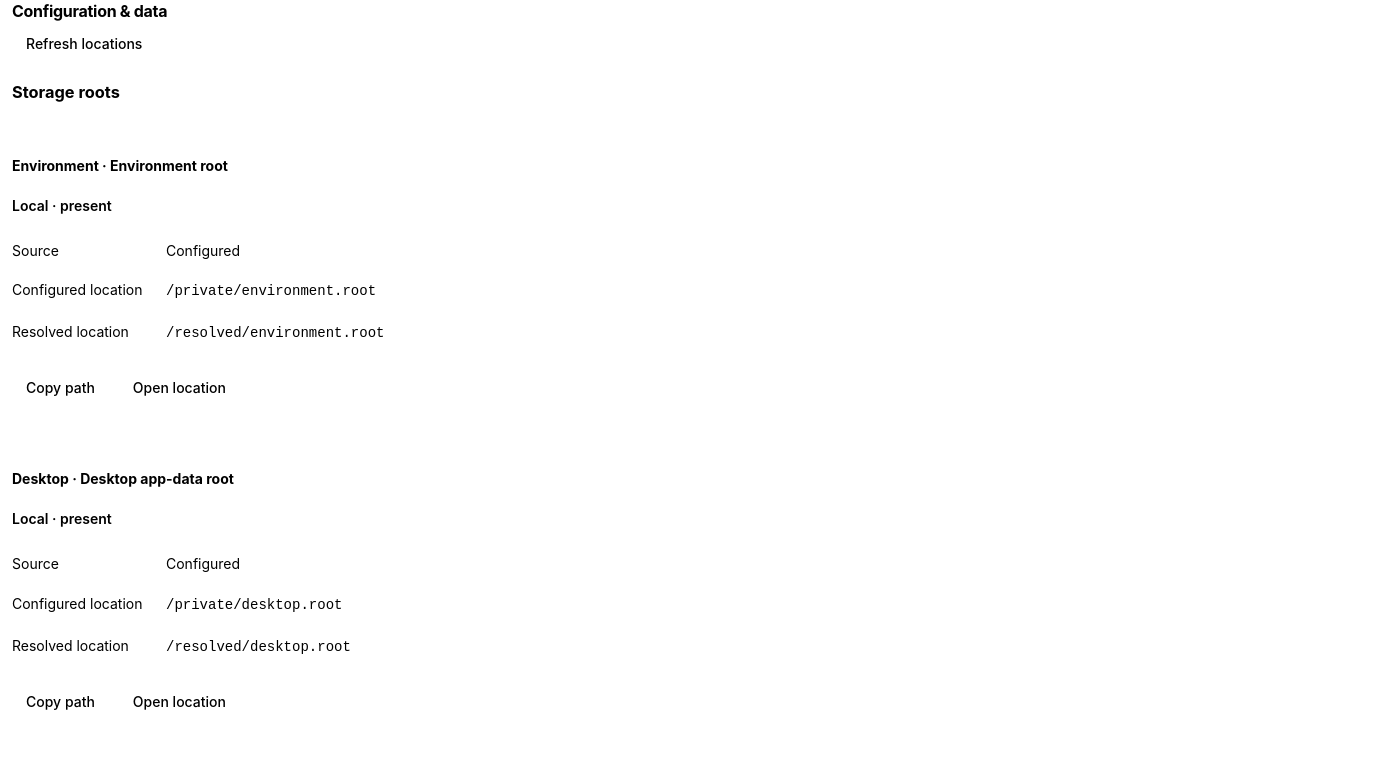
Scenario: configuration location observations › keeps environment and actual Desktop data roots separate and copies only the explicit canonical path
Expected: the text "/private/environment.root" is shown, [166, 283, 376, 299]
Expected: the text "/private/desktop.root" is shown, [166, 597, 342, 613]
Click the button "Copy path" below "/resolved/desktop.root" at (60, 701), box [12, 681, 109, 721]
(page scrolled)
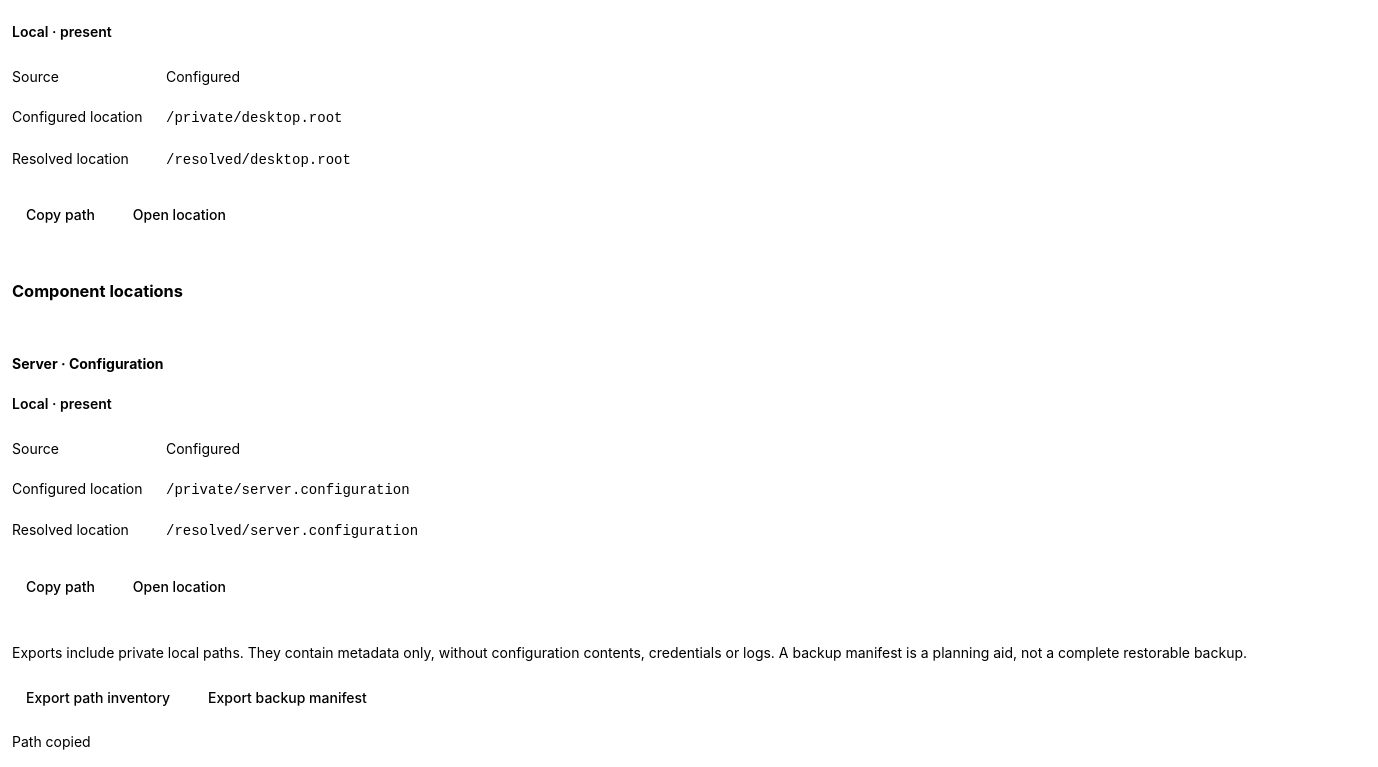
Expected: the text "Path copied" is shown, [12, 733, 91, 750]
